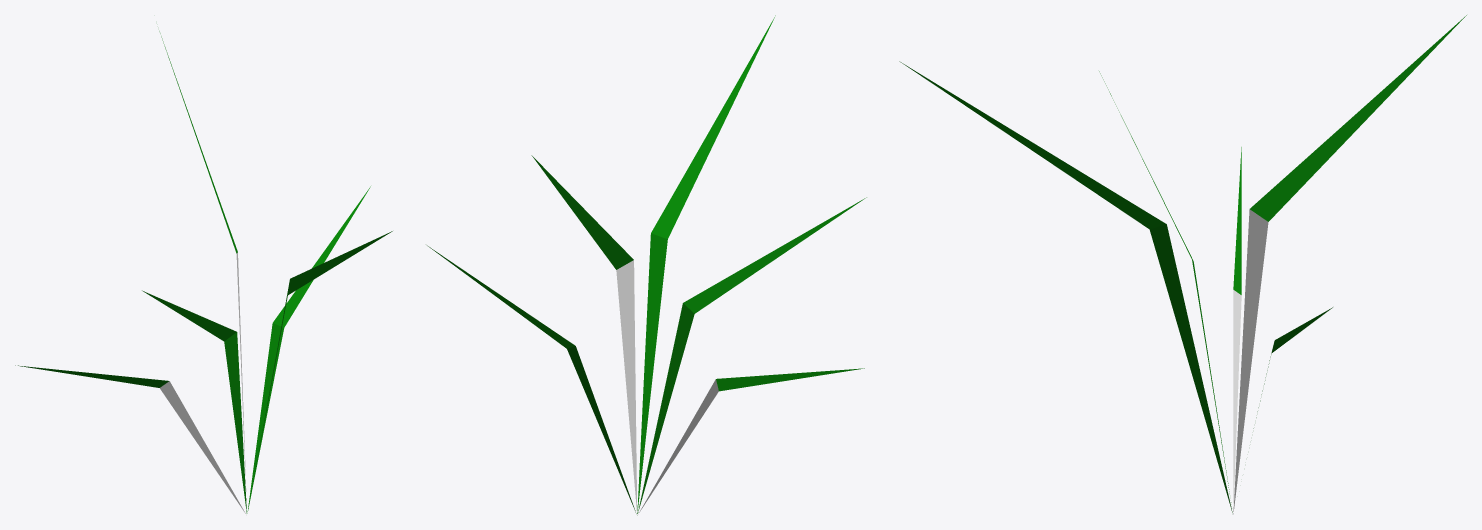
File: primary_307.glb
3 views of the same model, side by side, from view 1: azimuth 30°, elevation 25°; view 2: azimuth 150°, elevation 25°; view 3: azimuth 270°, elevation 25° (orthographic). The views are drawn at different scales.
Visible parts, largest first — view 1: Object; view 2: Object; view 3: Object.
Boxes of the visible parts, <box> form: Object: <box>15,31,392,513</box>; Object: <box>427,15,866,515</box>; Object: <box>899,15,1466,514</box>.
Bounding box in the file's own units: 1.65 × 1.69 × 1.73.
Materials: 2 (2 with a texture image).
